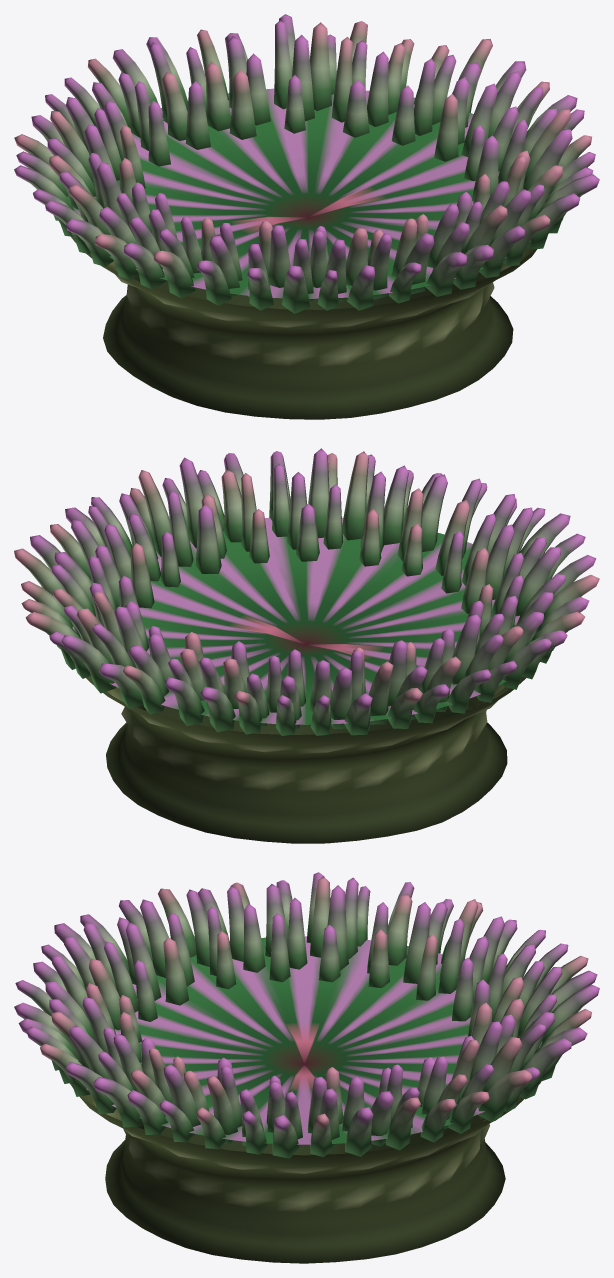
The model's file is SunburstAnemone.fbx.
3 renders of one model, top to bottom at view 1: azimuth 30°, elevation 25°; view 2: azimuth 150°, elevation 25°; view 3: azimuth 270°, elevation 25°, orthographic.
Parts seen in each view (by area): view 1: SunburstAnemone; view 2: SunburstAnemone; view 3: SunburstAnemone.
Boxes of the visible parts, x1,y1,x2,y2 form: SunburstAnemone: [14, 14, 599, 419]; SunburstAnemone: [14, 448, 599, 843]; SunburstAnemone: [14, 872, 599, 1263].
Size of the model in its own units: 0.9955 by 0.3852 by 0.9984.
